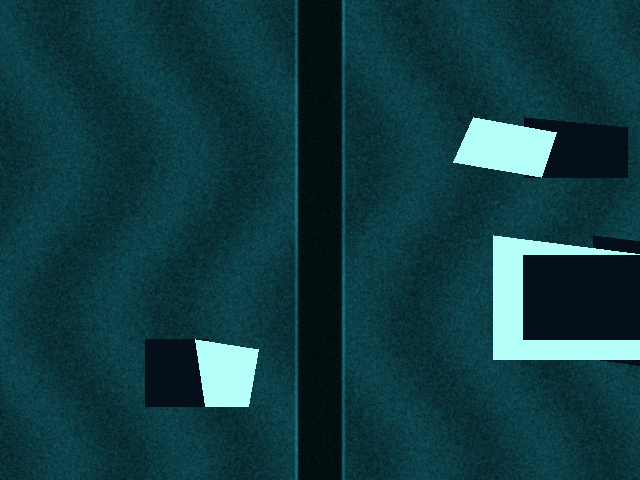Other Man-made Debris: (195, 339, 258, 406)
Ship/Boat Debris: (493, 235, 640, 359)
Unknown Anomaly: (453, 117, 556, 177)
